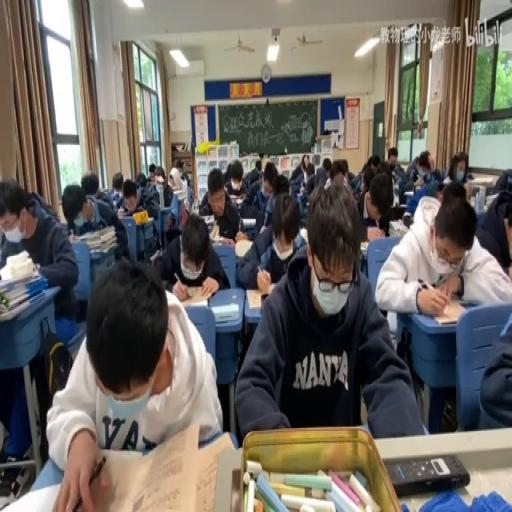calculator: (360, 234, 402, 268), (0, 264, 42, 294), (430, 299, 465, 324), (173, 283, 211, 304), (210, 300, 238, 322), (246, 287, 264, 309), (234, 238, 252, 258), (388, 218, 407, 234), (484, 192, 500, 209), (212, 233, 234, 245), (155, 182, 164, 208), (467, 175, 494, 183), (229, 194, 245, 206), (299, 224, 308, 242), (240, 216, 257, 225), (202, 213, 214, 225), (116, 209, 130, 219), (360, 240, 370, 252), (140, 216, 153, 225), (149, 248, 158, 260), (404, 189, 414, 198), (298, 184, 305, 194)
paper: (232, 179, 418, 440), (48, 256, 220, 512), (373, 184, 510, 317), (0, 179, 79, 330), (156, 209, 229, 296), (63, 179, 126, 270), (473, 291, 512, 429), (354, 170, 396, 238), (131, 170, 164, 248), (397, 149, 440, 205), (252, 161, 286, 229), (298, 155, 328, 202), (168, 164, 190, 223), (29, 189, 60, 219), (446, 152, 468, 184), (240, 159, 258, 192), (107, 170, 124, 204), (492, 169, 511, 195), (80, 171, 99, 196), (378, 160, 396, 184), (330, 158, 348, 180), (348, 170, 362, 194), (392, 160, 406, 184), (427, 166, 443, 184), (222, 161, 232, 186), (290, 165, 303, 183), (388, 145, 398, 166), (260, 152, 270, 171), (136, 170, 146, 188), (154, 168, 165, 183), (322, 156, 331, 174), (181, 170, 190, 188), (148, 161, 156, 179), (370, 155, 380, 169), (174, 161, 183, 175), (306, 161, 314, 176), (168, 175, 176, 189), (254, 158, 262, 169)
person: (384, 454, 470, 496), (0, 465, 22, 501), (360, 223, 370, 243), (458, 299, 476, 307)
